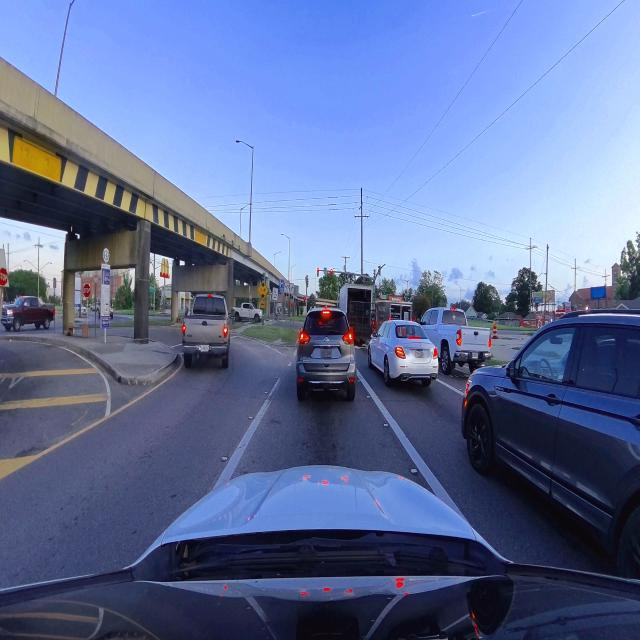car: (462, 310, 639, 578), (296, 309, 356, 400), (420, 308, 490, 375), (368, 321, 438, 386), (182, 294, 229, 368), (2, 296, 54, 331)
